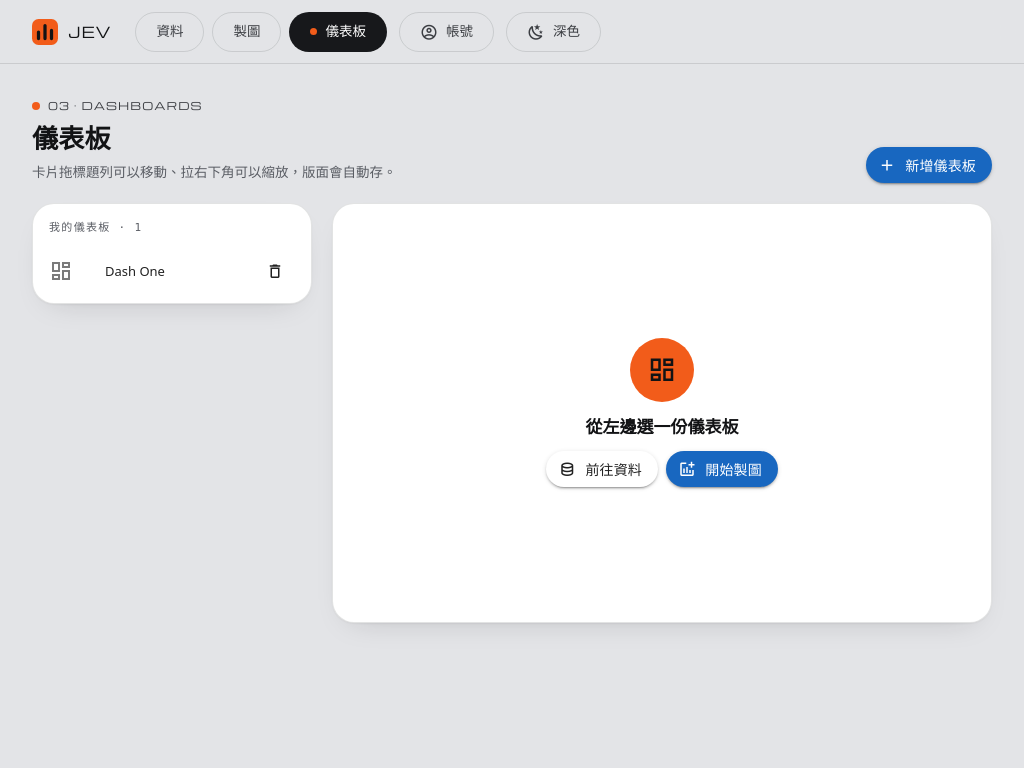
Test case: App › shows the error message when opening a dashboard fails
Click the list item "Dash One".
click(135, 271)  # box [41,247,303,295]
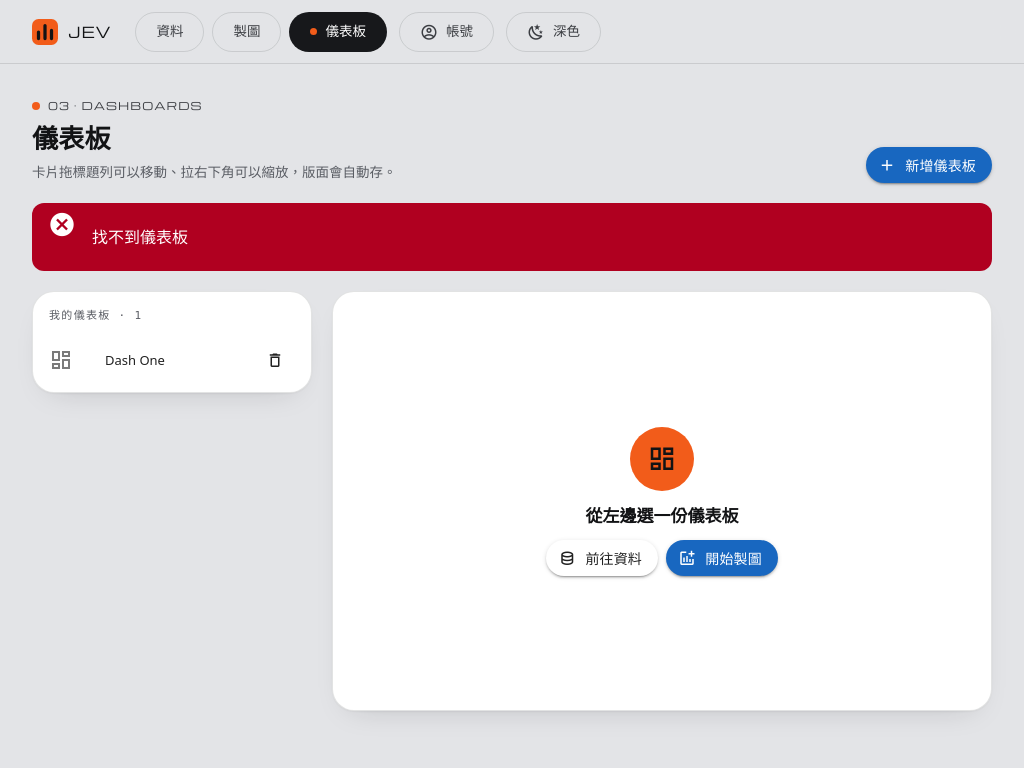
Check: the text "找不到儀表板" is shown, box [92,226,188,248]
